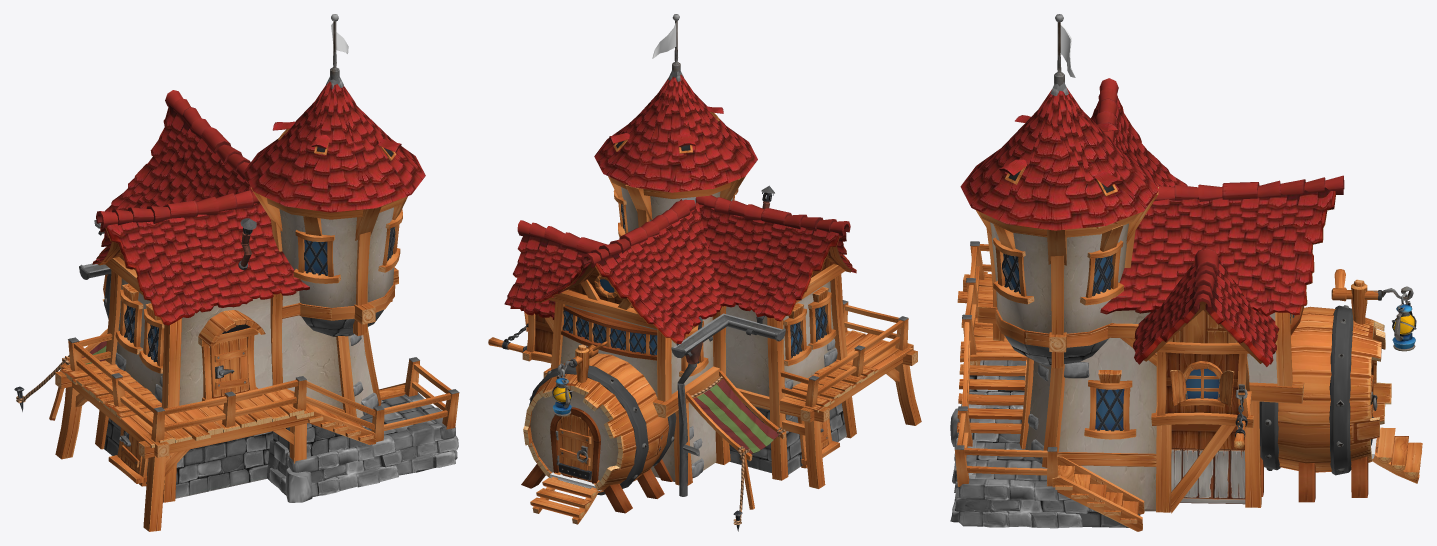
The picture shows the model from 3 angles, left to right: view 1: azimuth 30°, elevation 25°; view 2: azimuth 150°, elevation 25°; view 3: azimuth 270°, elevation 25°; orthographic projection. The views are drawn at different scales.
Visible parts, largest first — view 1: Kuca_bure; view 2: Kuca_bure; view 3: Kuca_bure.
Part boxes in pixels (x1,y1,x2,y2): Kuca_bure: [14, 14, 459, 531]; Kuca_bure: [488, 14, 921, 531]; Kuca_bure: [950, 14, 1422, 531].
Bounding box in the file's own units: 0.0409 × 0.0486 × 0.0434.
6 materials, 5 textured.
